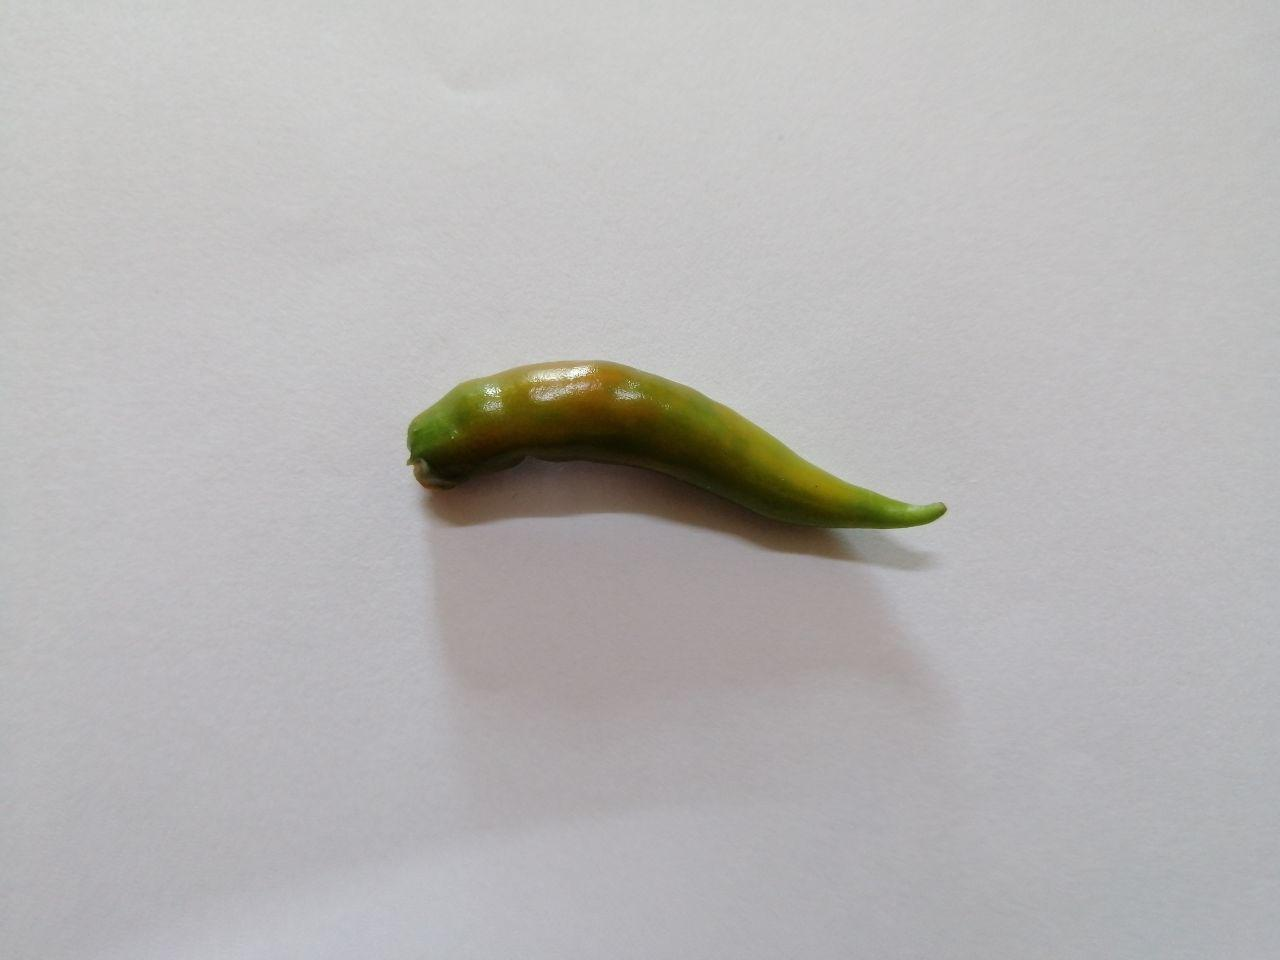lada hijau: (377, 328, 965, 612)
